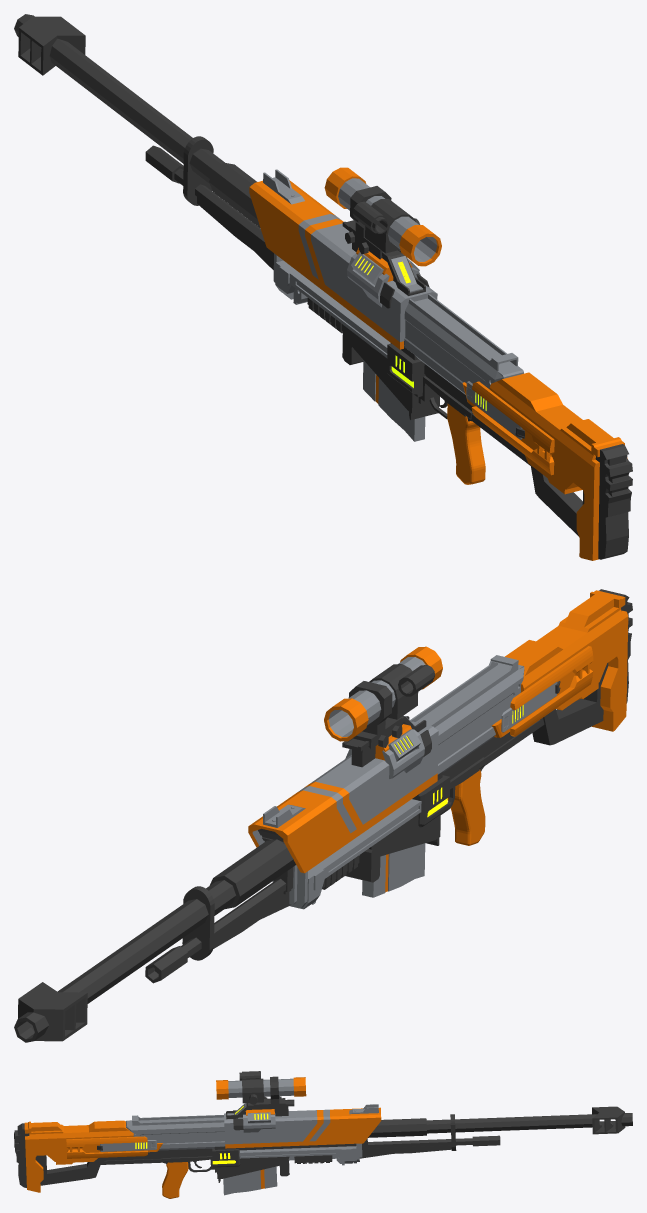
Rendered from boltsniper.glb.
3 views of the same model, one above another, from view 1: azimuth 30°, elevation 25°; view 2: azimuth 150°, elevation 25°; view 3: azimuth 270°, elevation 25° (orthographic). The views are drawn at different scales.
Parts seen in each view (by area): view 1: boltsniper; view 2: boltsniper; view 3: boltsniper.
Boxes of the visible parts, x1=… form: boltsniper: x1=14, y1=14, x2=632, y2=560; boltsniper: x1=14, y1=589, x2=632, y2=1042; boltsniper: x1=14, y1=1071, x2=632, y2=1198.
Bounding box in the file's own units: 0.0521 × 0.195 × 0.9154.
Materials: 1 (1 with a texture image).
